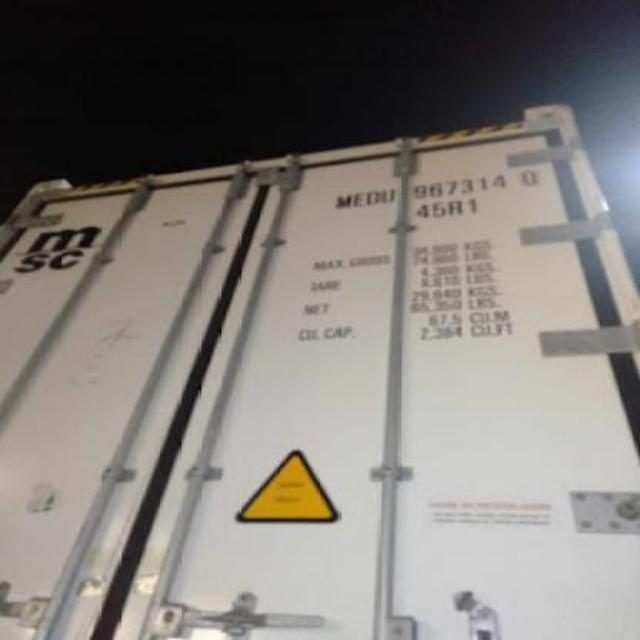0: (518, 164, 538, 192)
1: (476, 172, 492, 200)
3: (458, 176, 476, 198)
4: (490, 170, 508, 198)
6: (428, 177, 444, 200)
7: (440, 176, 460, 198)
9: (410, 182, 428, 202)
D: (362, 182, 380, 210)
E: (348, 188, 364, 208)
M: (331, 188, 352, 210)
U: (378, 182, 394, 210)
